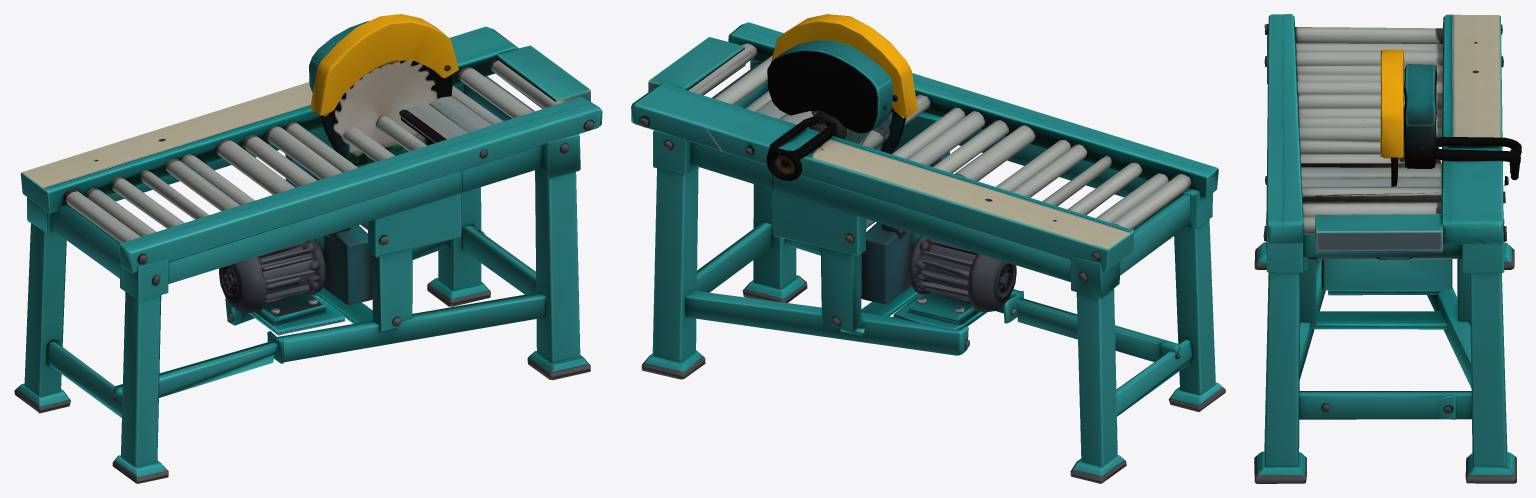
Rendered from timber-saw-bench.glb.
The picture shows the model from 3 angles, left to right: view 1: azimuth 30°, elevation 25°; view 2: azimuth 150°, elevation 25°; view 3: azimuth 270°, elevation 25°; orthographic projection. The views are drawn at different scales.
Parts seen in each view (by area): view 1: geometry_0; view 2: geometry_0; view 3: geometry_0.
Boxes of the visible parts, <box> form: geometry_0: <box>14,14,602,483</box>; geometry_0: <box>631,14,1225,483</box>; geometry_0: <box>1254,14,1521,483</box>.
Size of the model in its own units: 1 by 0.6772 by 0.4579.
Materials: 1 (1 with a texture image).
